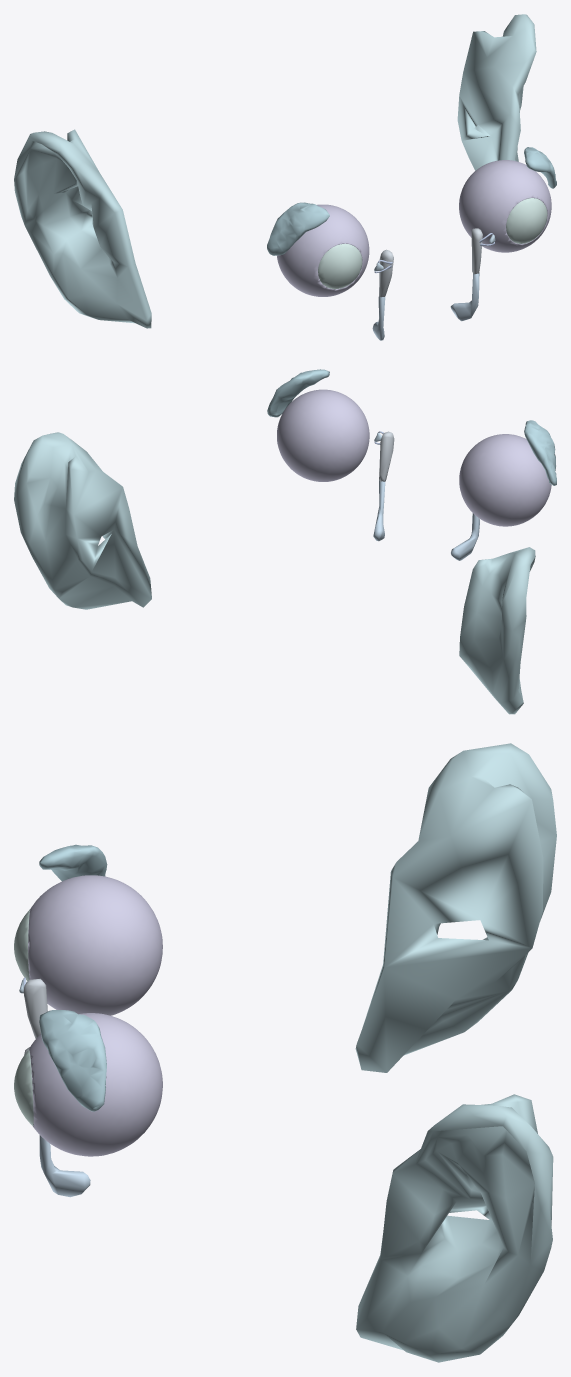
Rendered from body-sense.lod2.glb.
3 renders of one model, top to bottom at view 1: azimuth 30°, elevation 25°; view 2: azimuth 150°, elevation 25°; view 3: azimuth 270°, elevation 25°, orthographic. The views are drawn at different scales.
Parts seen in each view (by area): view 1: external-ear, sclera-l, sclera-r, lacrimal-gland-r, cornea-r, cornea-l, lacrimal-gland-l, nasolacrimal-duct-l, lacrimal-sac-r, lacrimal-sac-l; view 2: external-ear, sclera-l, sclera-r, lacrimal-gland-l, lacrimal-gland-r, lacrimal-sac-l, nasolacrimal-duct-r, nasolacrimal-duct-l; view 3: external-ear, sclera-r, sclera-l, lacrimal-gland-l, lacrimal-gland-r, nasolacrimal-duct-l, cornea-l, lacrimal-sac-r, cornea-r.
Boxes of the visible parts, x1,y1,x2,y2 form: external-ear: (14, 14, 536, 328); sclera-l: (459, 160, 551, 252); sclera-r: (277, 204, 369, 296); lacrimal-gland-r: (267, 202, 329, 255); cornea-r: (318, 243, 362, 289); cornea-l: (506, 198, 547, 243); lacrimal-gland-l: (524, 147, 556, 188); nasolacrimal-duct-l: (450, 273, 479, 321); lacrimal-sac-r: (379, 249, 393, 297); lacrimal-sac-l: (471, 228, 482, 274); external-ear: (14, 432, 535, 714); sclera-l: (277, 389, 369, 481); sclera-r: (459, 434, 551, 526); lacrimal-gland-l: (267, 369, 329, 417); lacrimal-gland-r: (524, 420, 556, 485); lacrimal-sac-l: (379, 431, 394, 481); nasolacrimal-duct-r: (451, 513, 479, 560); nasolacrimal-duct-l: (373, 480, 385, 541); external-ear: (355, 743, 556, 1362); sclera-r: (28, 875, 162, 1015); sclera-l: (29, 1013, 162, 1156); lacrimal-gland-l: (39, 1010, 106, 1111); lacrimal-gland-r: (39, 844, 107, 881); nasolacrimal-duct-l: (39, 1135, 90, 1197); cornea-l: (14, 1050, 33, 1125); lacrimal-sac-r: (23, 978, 47, 1038); cornea-r: (14, 909, 30, 981).
Size of the model in its own units: 0.1674 by 0.0569 by 0.0992.
